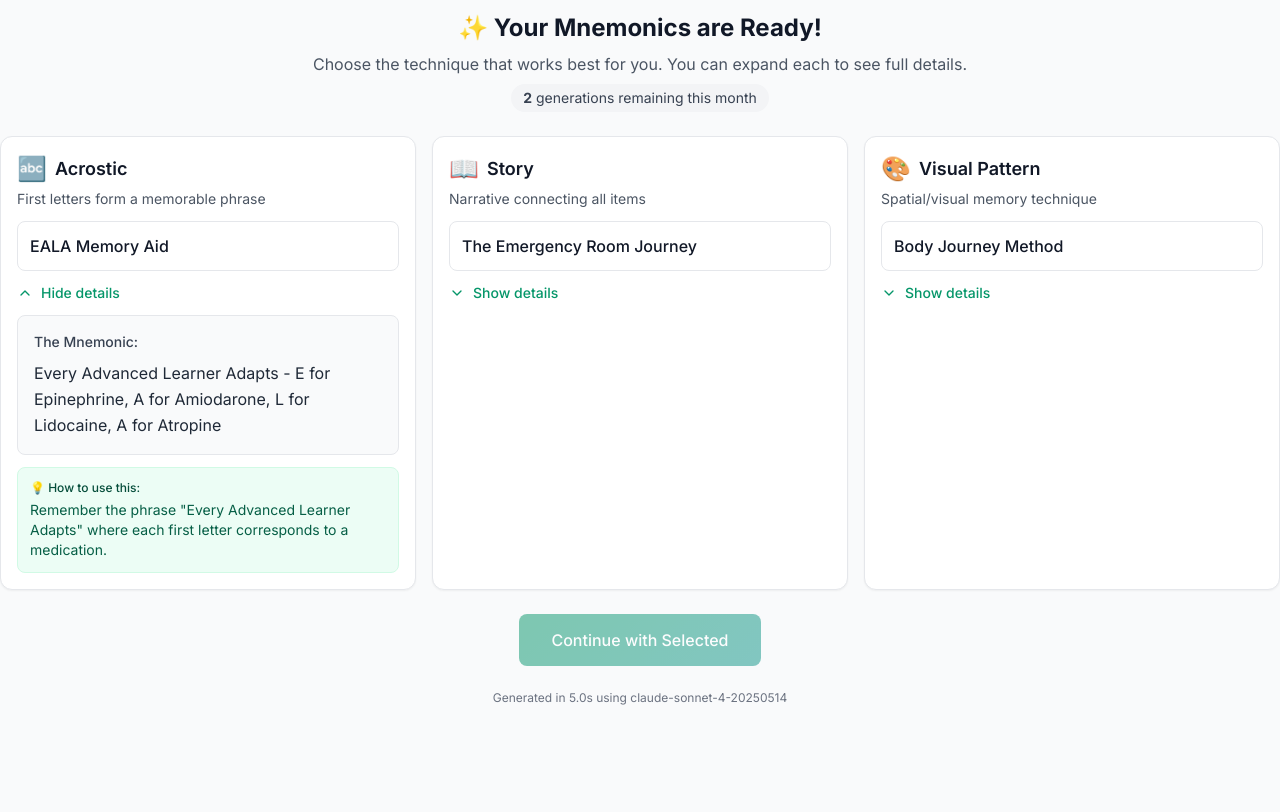
MnemonicSelectionView › Scenario 1: Select mnemonic (happy path) › should highlight selected card when clicked
This screenshot has width=1280, height=812.
Click the radio button labelled "Acrostic" at (208, 363), box [0, 136, 416, 590]
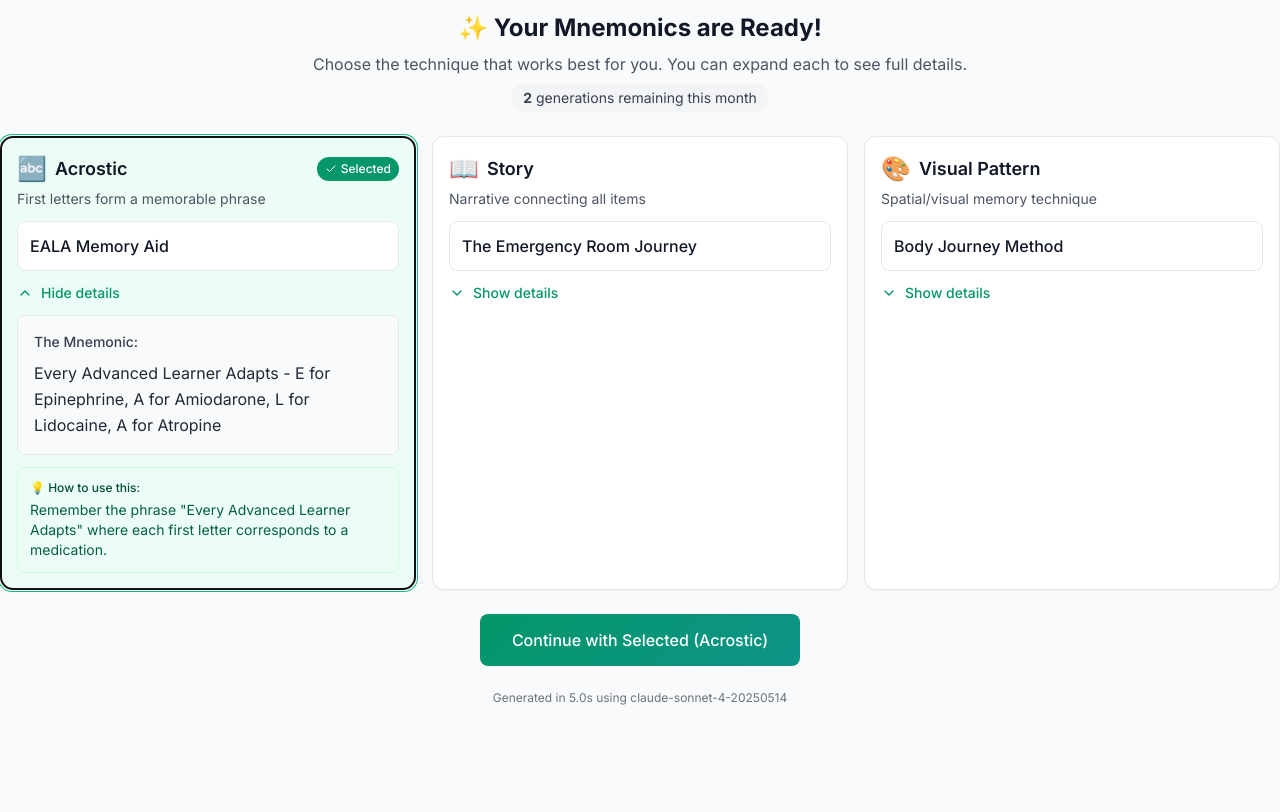
Now the text "Selected" is shown, box [317, 157, 399, 181]
